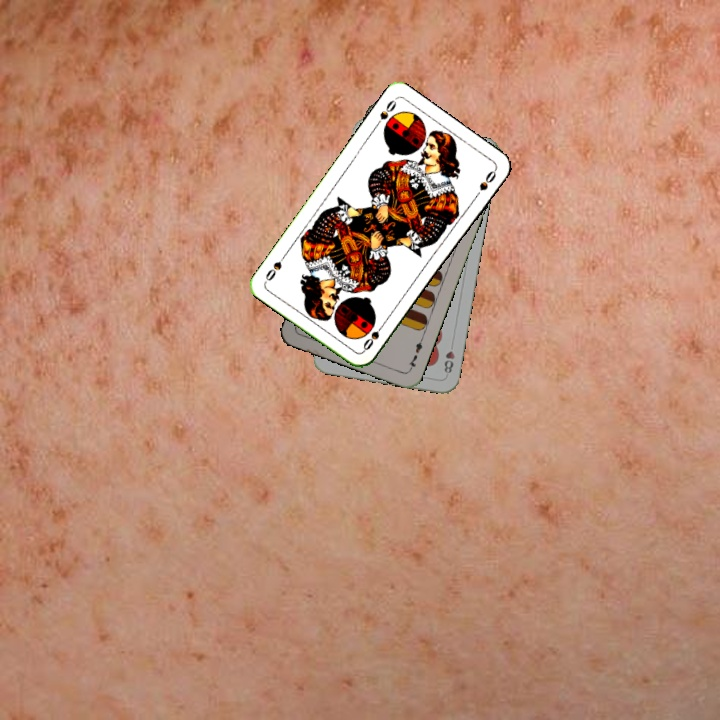E7: (404, 334, 426, 373)
H8: (440, 338, 457, 376)
SO: (359, 319, 388, 354), (371, 96, 399, 131)
